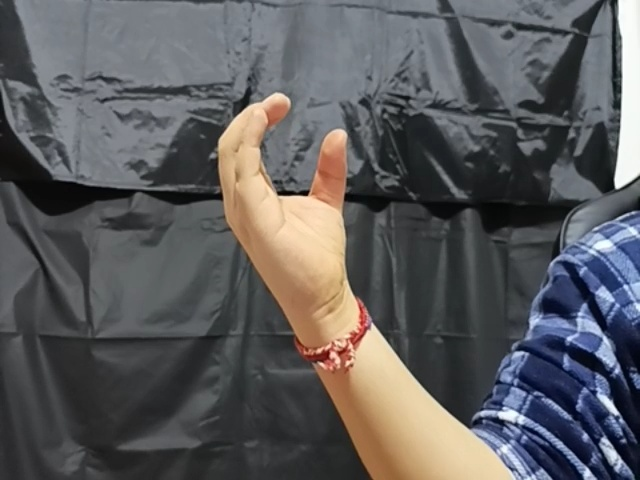C: (209, 89, 368, 319)
